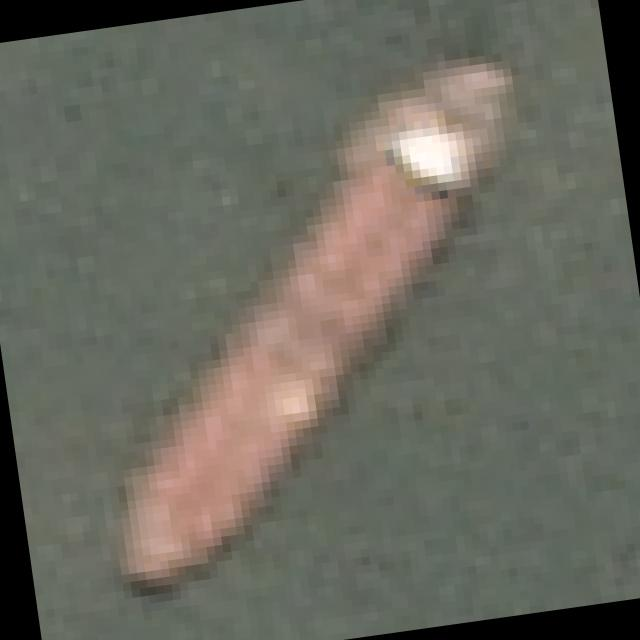ship: (36, 31, 598, 604)
